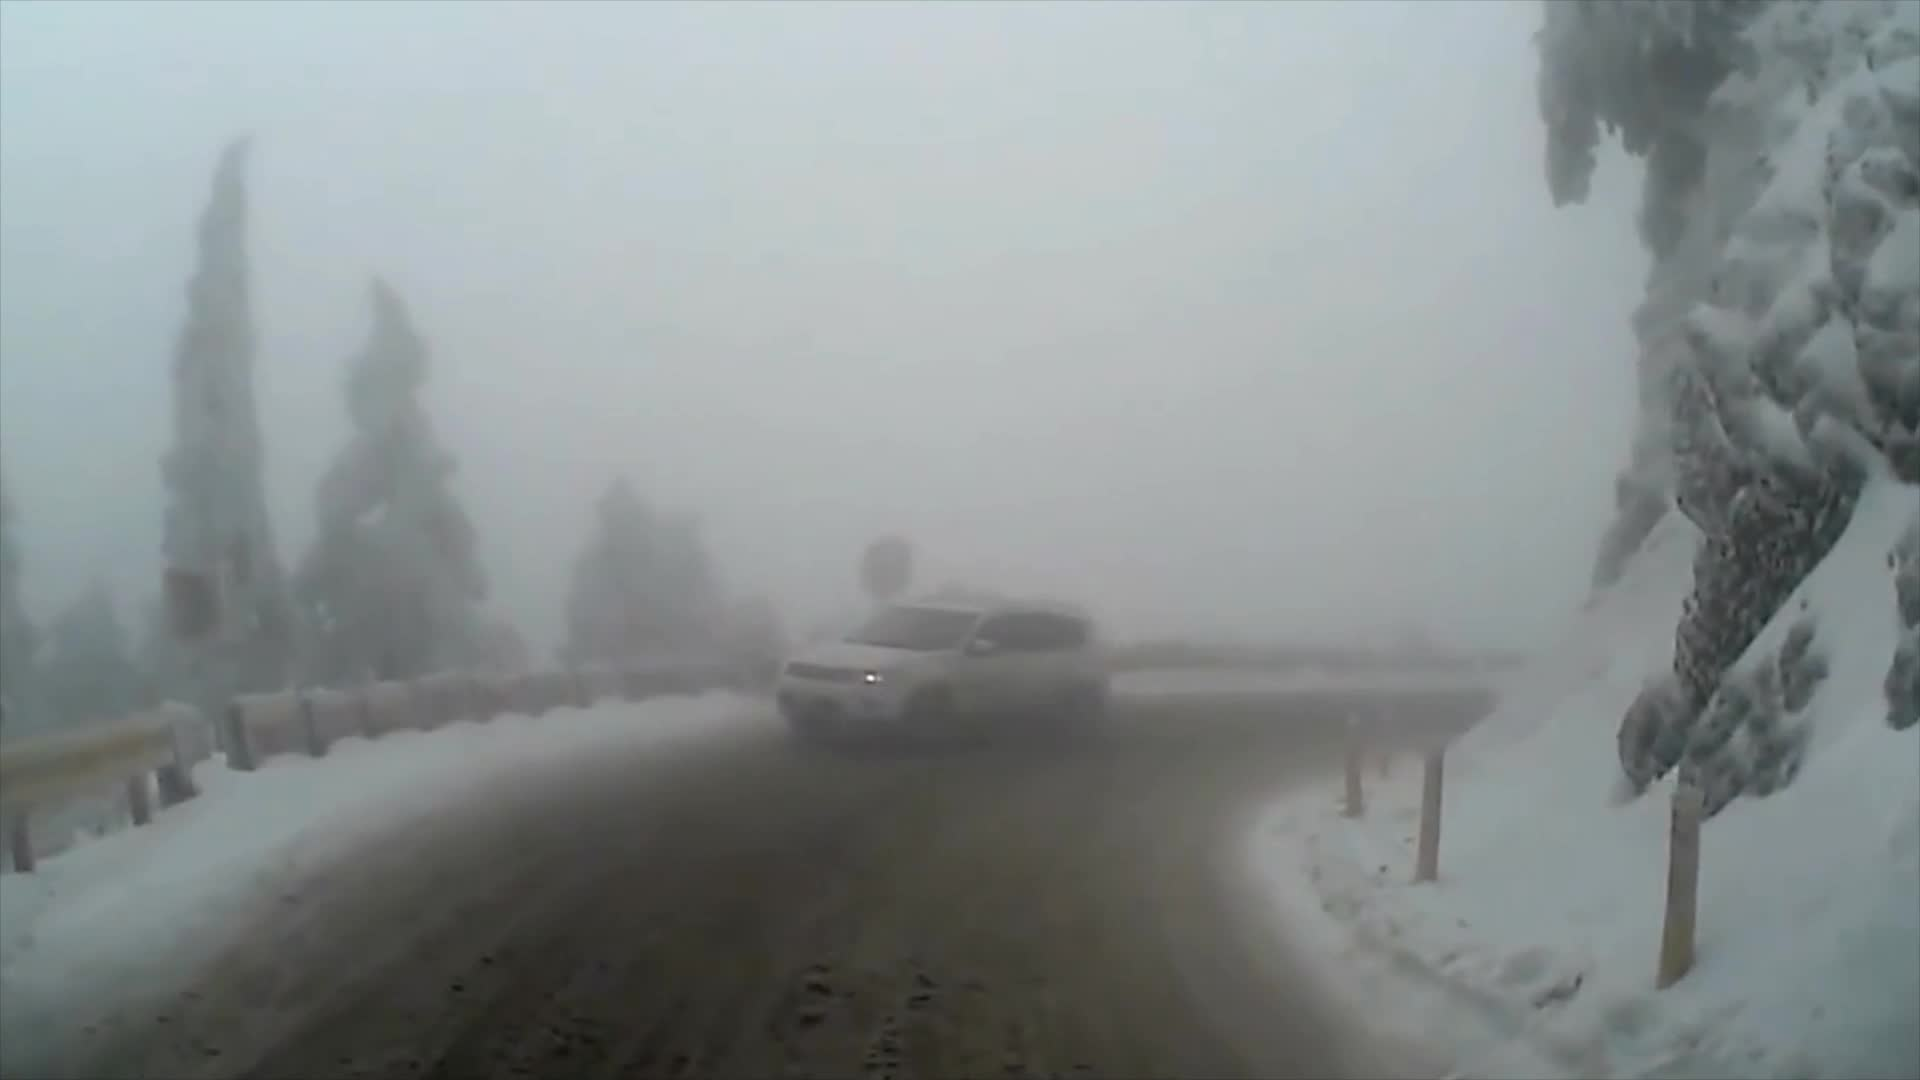vehicle: (773, 593, 1112, 760)
